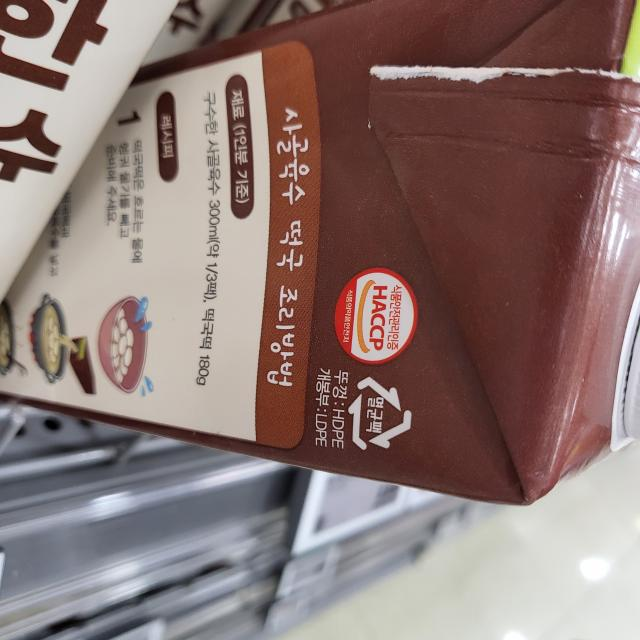SterilizedPack: (346, 373, 419, 458)
